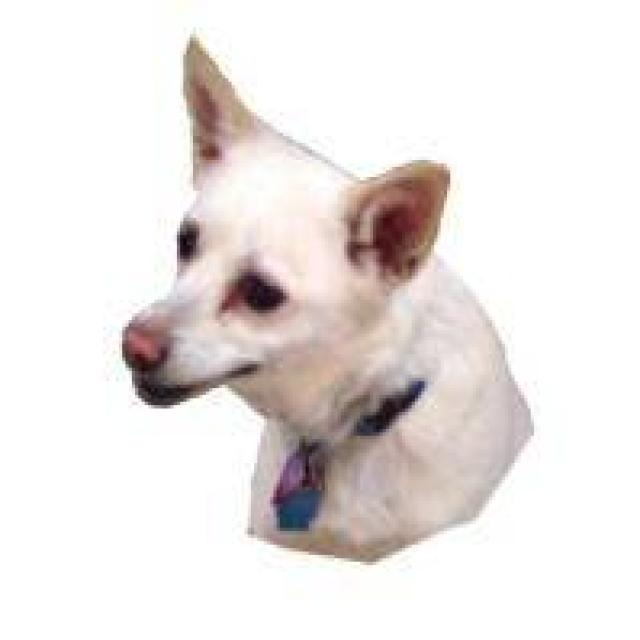dog: (119, 27, 534, 562)
